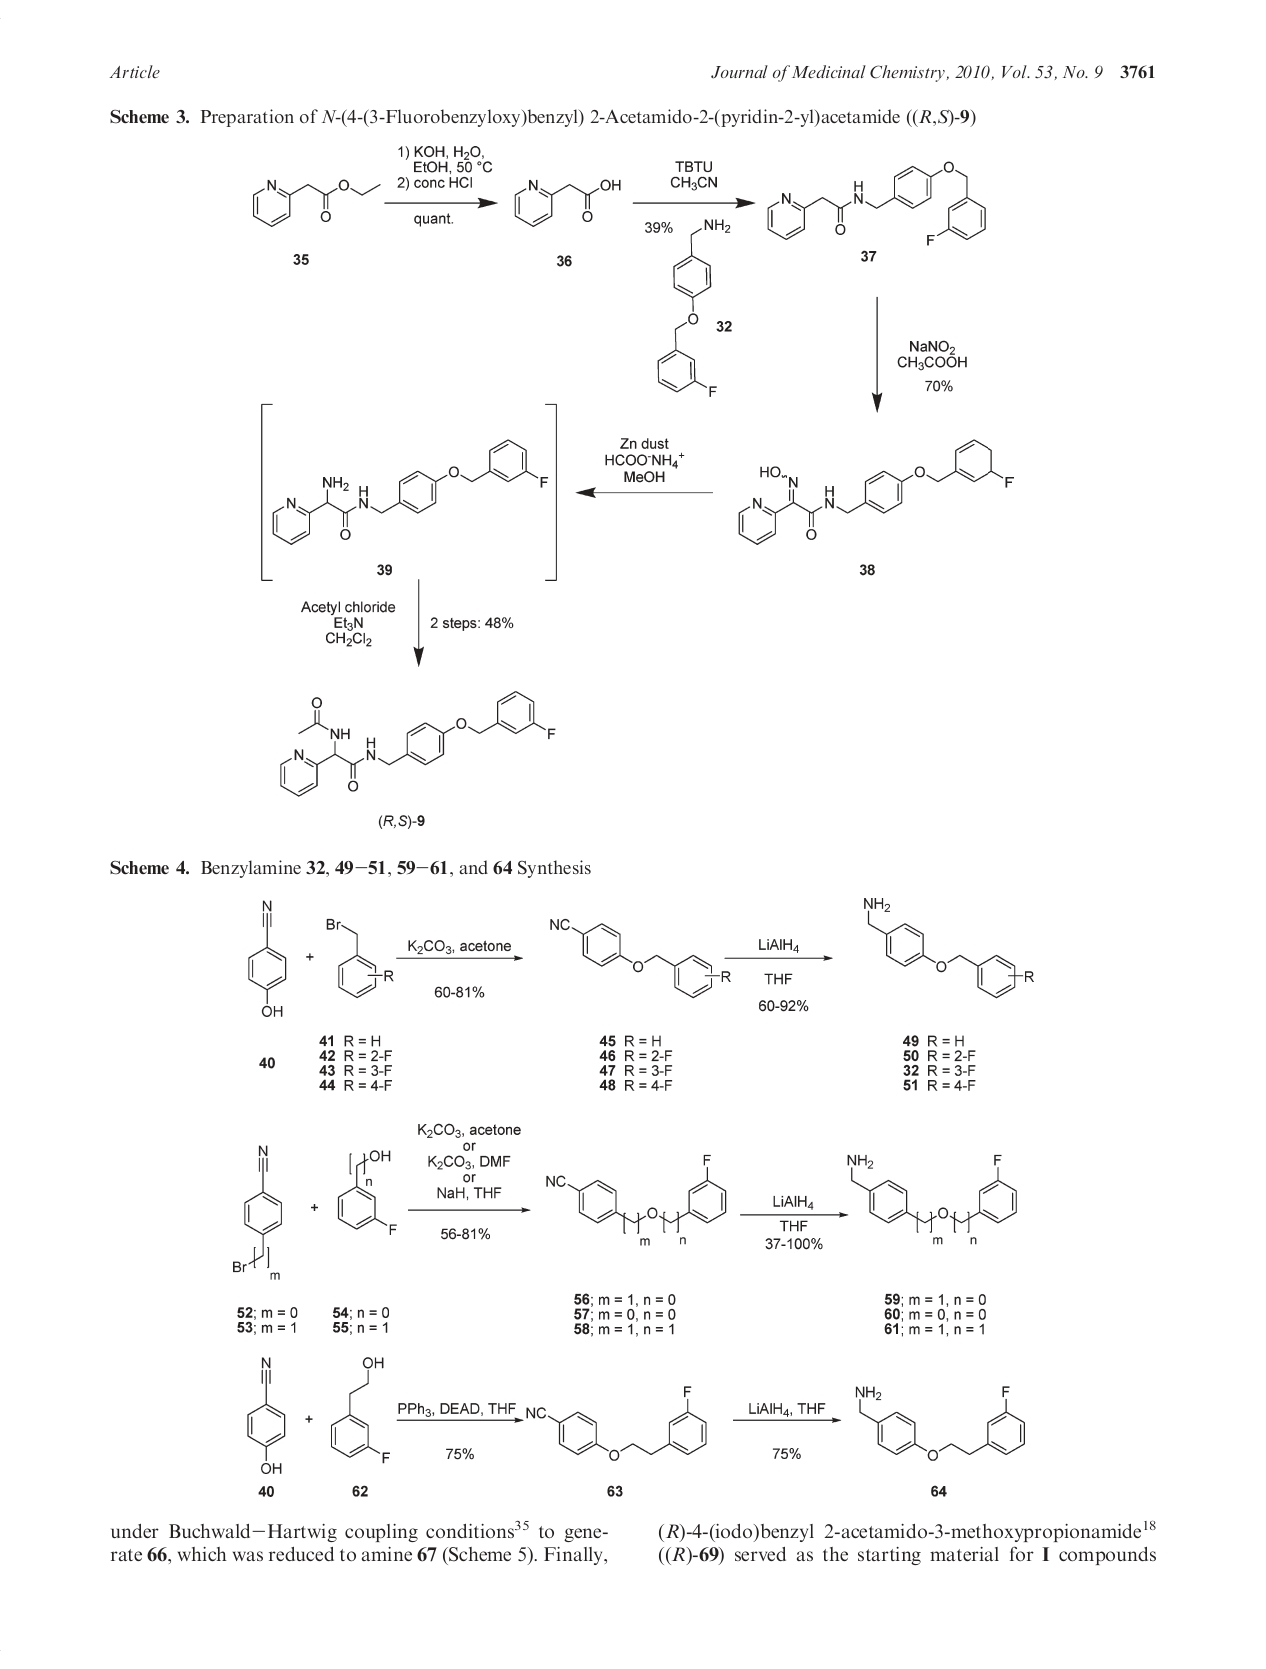exist_molecular: (270, 427, 555, 560), (275, 681, 561, 801), (737, 431, 1016, 548), (854, 886, 1044, 1005), (766, 158, 993, 251), (528, 1376, 719, 1477), (547, 1150, 731, 1250), (847, 1145, 1023, 1247), (543, 914, 737, 1001), (851, 1370, 1031, 1458), (652, 207, 733, 400), (223, 1142, 294, 1291), (249, 170, 398, 238), (330, 1348, 402, 1479), (327, 1138, 402, 1245), (509, 170, 632, 231), (249, 1346, 302, 1484), (318, 915, 398, 1001), (251, 895, 297, 1015)
